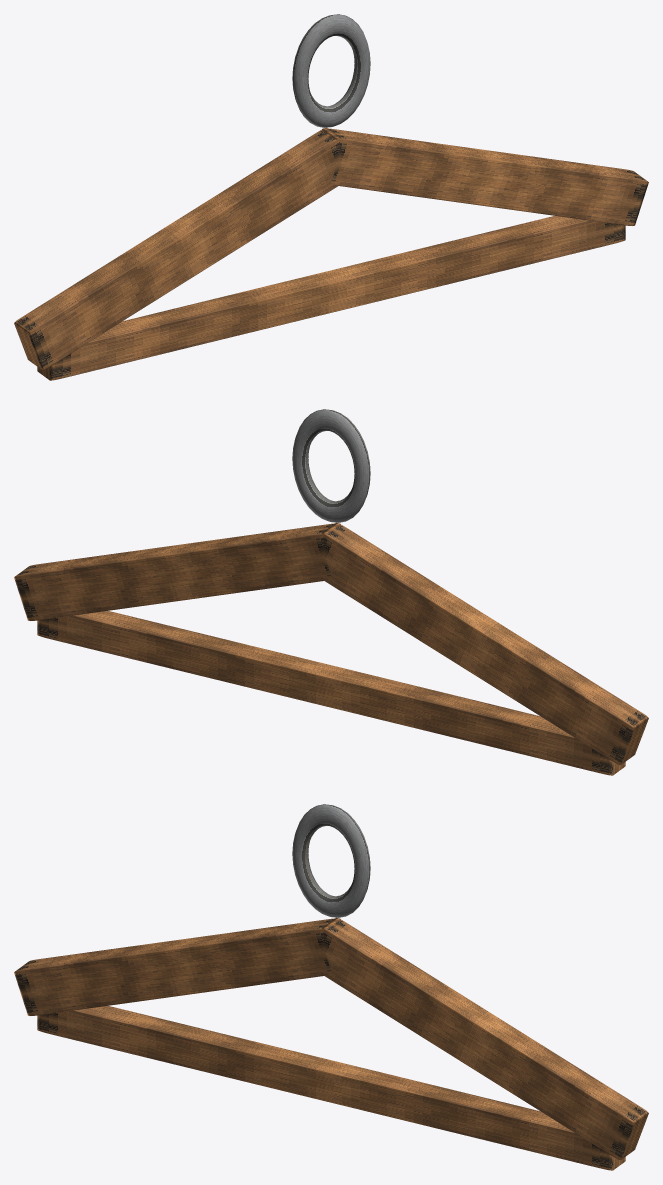
File: uniform-hanger.glb
3 views of the same model, one above another, from view 1: azimuth 30°, elevation 25°; view 2: azimuth 150°, elevation 25°; view 3: azimuth 330°, elevation 25° (orthographic).
Visible parts, largest first — view 1: cross, left, right, hook; view 2: cross, left, right, hook; view 3: cross, right, left, hook.
Part boxes in pixels (left/top/right/bottom): cross: left=37, top=216, right=625, bottom=380; left: left=14, top=127, right=340, bottom=370; right: left=322, top=128, right=648, bottom=225; hook: left=292, top=14, right=370, bottom=127; cross: left=37, top=611, right=625, bottom=775; left: left=322, top=522, right=648, bottom=765; right: left=14, top=523, right=340, bottom=620; hook: left=292, top=409, right=370, bottom=522; cross: left=37, top=1006, right=625, bottom=1170; right: left=322, top=917, right=648, bottom=1160; left: left=14, top=918, right=340, bottom=1015; hook: left=292, top=804, right=370, bottom=917.
Size of the model in its own units: 0.4172 by 0.1872 by 0.0175.
2 materials, 2 textured.
